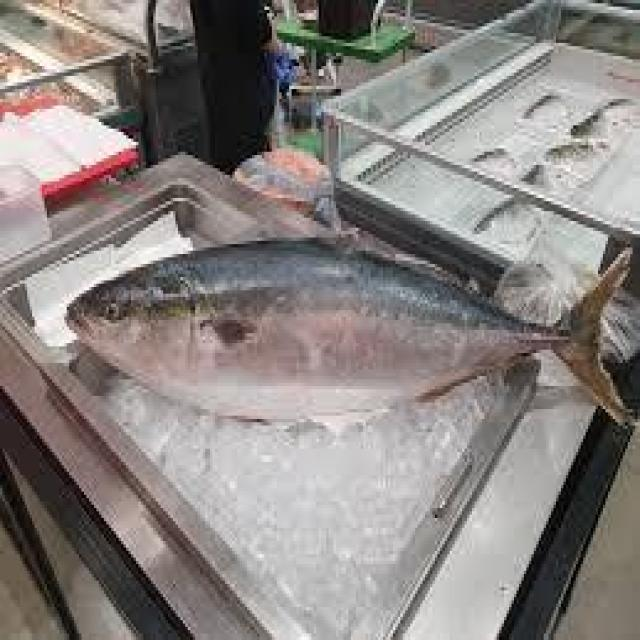Kingfish: (60, 223, 640, 440)
